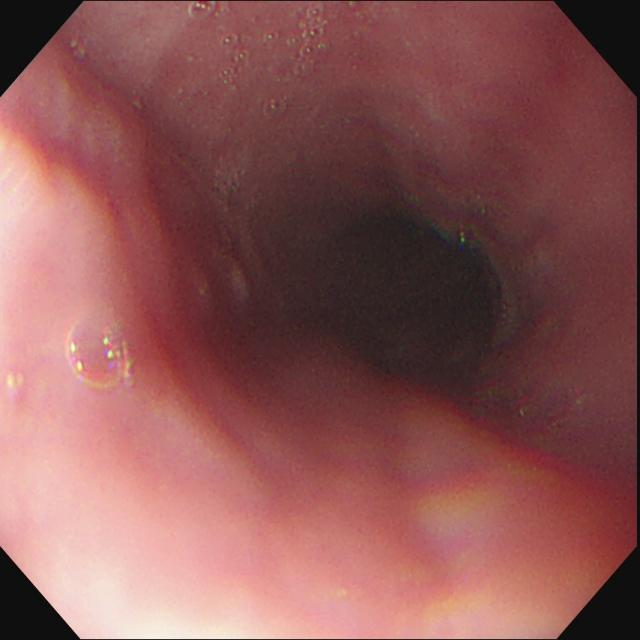E: (339, 224, 493, 358)
T: (65, 319, 131, 391), (290, 5, 326, 64), (219, 34, 249, 90), (187, 2, 218, 23), (265, 95, 286, 123)
